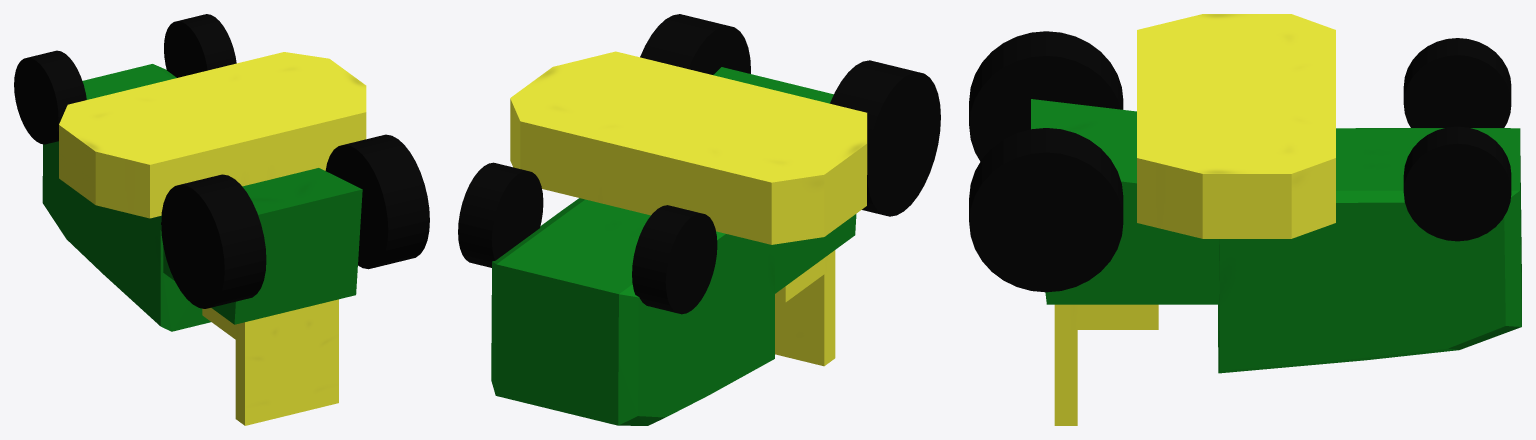
Rendered from lawnmower.obj.
The picture shows the model from 3 angles, left to right: view 1: azimuth 30°, elevation 25°; view 2: azimuth 150°, elevation 25°; view 3: azimuth 270°, elevation 25°; orthographic projection. The views are drawn at different scales.
Visible parts, largest first — view 1: Cube; view 2: Cube; view 3: Cube.
Part boxes in pixels (x1,y1,x2,y2): Cube: (14,14,429,425); Cube: (458,14,940,425); Cube: (969,14,1521,425).
Bounding box in the file's own units: 2.13 × 1.91 × 3.11.
